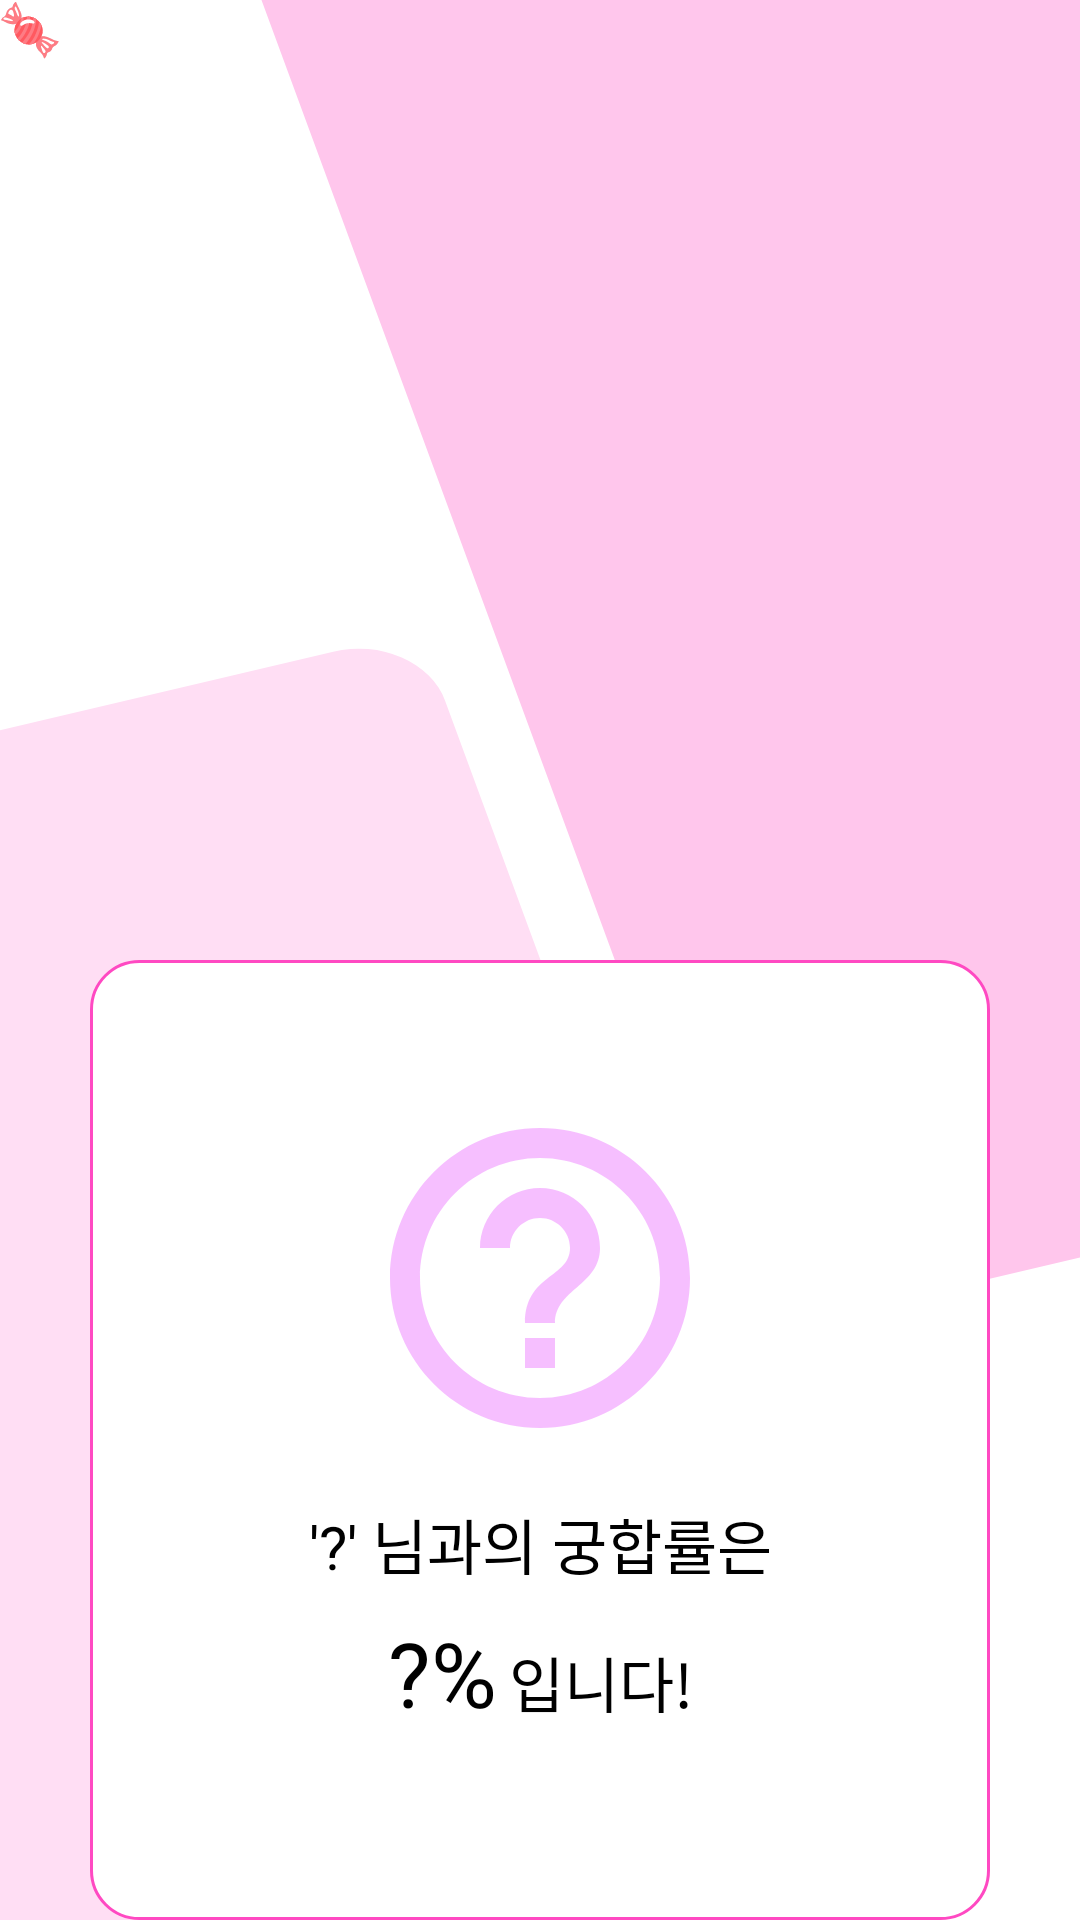

Screen size 1080x1920. Icon name, then its center in pixels as point (x, y):
candy: point (30, 30)
question: point (540, 1278)
